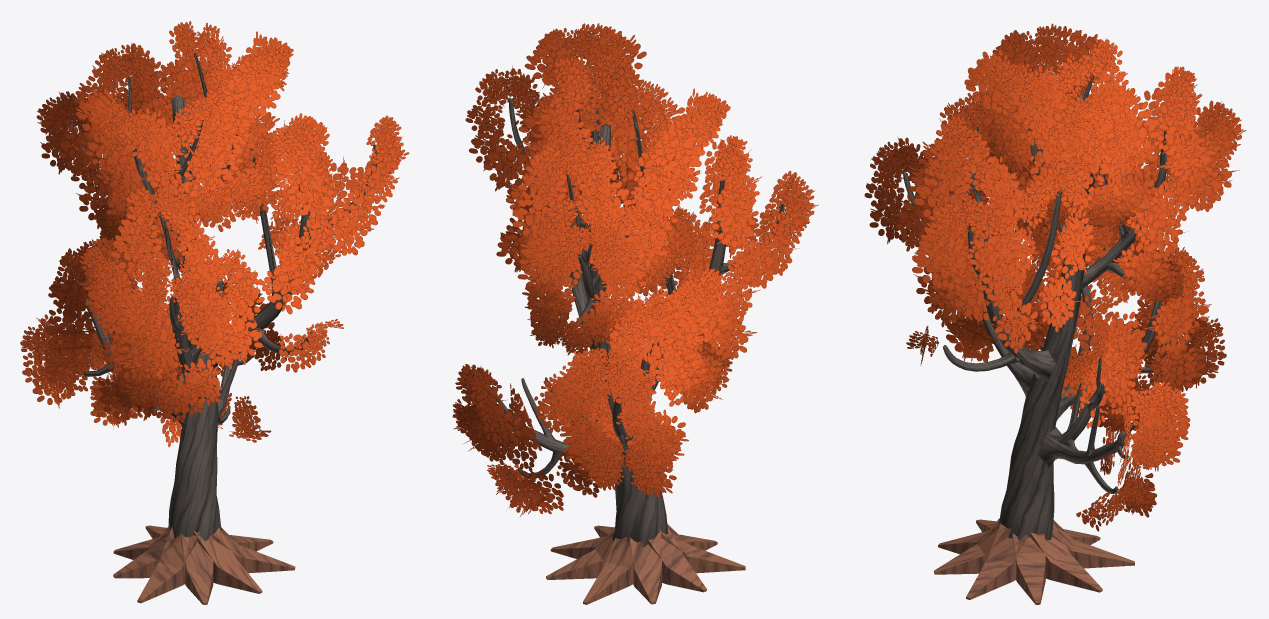
File: GiantTree_18m.glb
3 renders of one model, left to right at view 1: azimuth 30°, elevation 25°; view 2: azimuth 150°, elevation 25°; view 3: azimuth 270°, elevation 25°, orthographic. The views are drawn at different scales.
Visible parts, largest first — view 1: GiantTree_18m__TwistedTree_3, GiantTree_18m__GiantTree_18m.005, GiantTree_18m__GiantTree_18m.007, GiantTree_18m__GiantTree_18m.006, GiantTree_18m__GiantTree_18m.008, GiantTree_18m__GiantTree_18m.004; view 2: GiantTree_18m__TwistedTree_3, GiantTree_18m__GiantTree_18m.002, GiantTree_18m__GiantTree_18m.003, GiantTree_18m__GiantTree_18m.004, GiantTree_18m__GiantTree_18m.001, GiantTree_18m__GiantTree_18m.005, GiantTree_18m__GiantTree_18m; view 3: GiantTree_18m__TwistedTree_3, GiantTree_18m__GiantTree_18m.008, GiantTree_18m__GiantTree_18m.001, GiantTree_18m__GiantTree_18m, GiantTree_18m__GiantTree_18m.007, GiantTree_18m__GiantTree_18m.002, GiantTree_18m__GiantTree_18m.006.
Part boxes in pixels (left/top/right/bottom): GiantTree_18m__TwistedTree_3: left=20, top=21, right=409, bottom=541; GiantTree_18m__GiantTree_18m.005: left=137, top=526, right=200, bottom=603; GiantTree_18m__GiantTree_18m.007: left=193, top=527, right=262, bottom=593; GiantTree_18m__GiantTree_18m.006: left=180, top=533, right=213, bottom=604; GiantTree_18m__GiantTree_18m.008: left=212, top=528, right=295, bottom=573; GiantTree_18m__GiantTree_18m.004: left=113, top=526, right=182, bottom=578; GiantTree_18m__TwistedTree_3: left=452, top=23, right=818, bottom=547; GiantTree_18m__GiantTree_18m.002: left=583, top=538, right=642, bottom=604; GiantTree_18m__GiantTree_18m.003: left=629, top=530, right=661, bottom=604; GiantTree_18m__GiantTree_18m.004: left=648, top=526, right=706, bottom=592; GiantTree_18m__GiantTree_18m.001: left=546, top=527, right=627, bottom=579; GiantTree_18m__GiantTree_18m.005: left=658, top=524, right=745, bottom=573; GiantTree_18m__GiantTree_18m: left=550, top=532, right=614, bottom=558; GiantTree_18m__TwistedTree_3: left=864, top=23, right=1246, bottom=540; GiantTree_18m__GiantTree_18m.008: left=966, top=524, right=1027, bottom=599; GiantTree_18m__GiantTree_18m.001: left=1030, top=523, right=1102, bottom=592; GiantTree_18m__GiantTree_18m: left=1012, top=533, right=1045, bottom=604; GiantTree_18m__GiantTree_18m.007: left=934, top=518, right=1011, bottom=574; GiantTree_18m__GiantTree_18m.002: left=1052, top=520, right=1134, bottom=568; GiantTree_18m__GiantTree_18m.006: left=938, top=523, right=1000, bottom=554.
Size of the model in its own units: 11.65 by 18 by 11.96.
3 materials, 3 textured.
